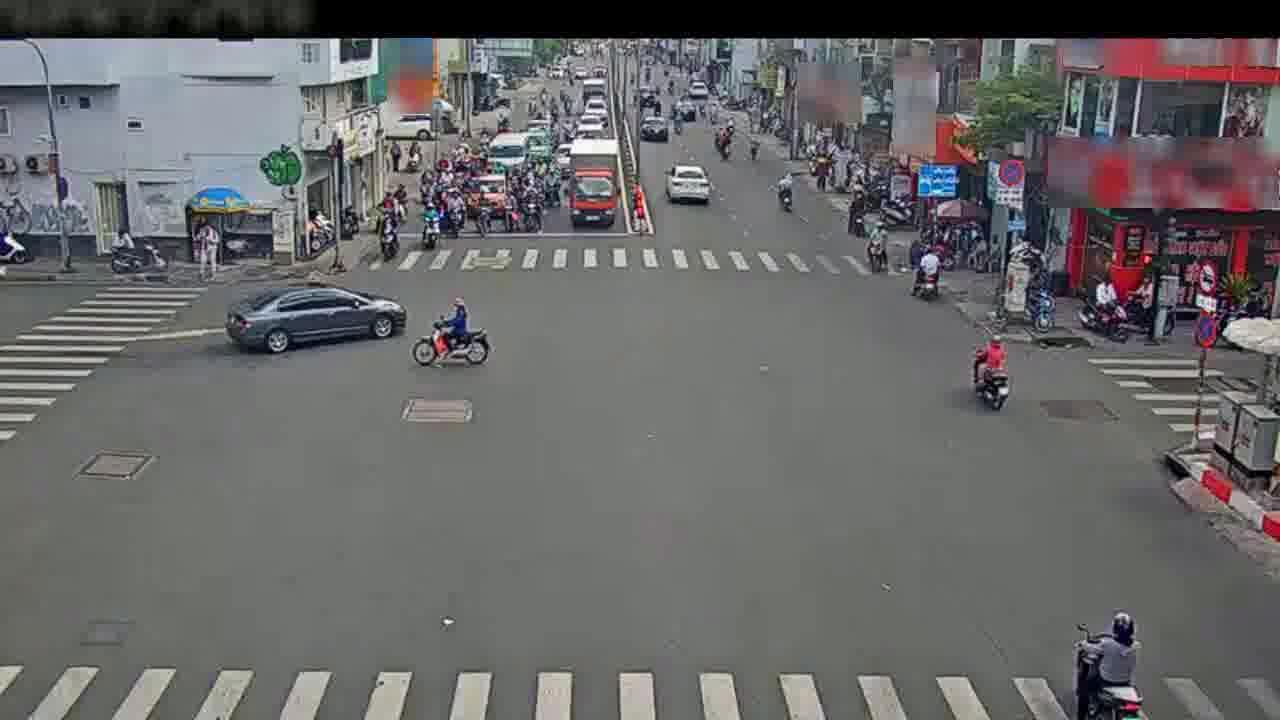14: (487, 123, 536, 179)
8: (565, 143, 620, 227)
container: (232, 280, 395, 351), (665, 162, 708, 211), (635, 104, 669, 148)
motorbike: (1071, 614, 1141, 716), (416, 295, 487, 370), (969, 329, 1012, 415), (907, 240, 945, 307), (862, 210, 891, 281), (375, 202, 404, 268), (841, 186, 868, 246), (419, 197, 445, 255), (498, 191, 528, 238), (470, 198, 497, 246), (776, 167, 796, 224), (523, 189, 545, 236), (715, 119, 734, 164)
